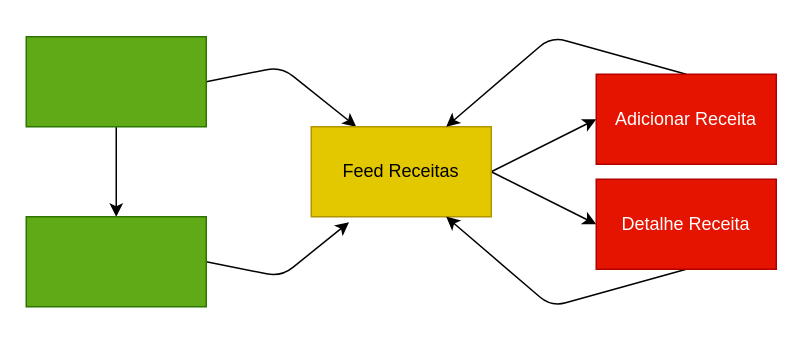
Image size: 803x345. Some labels were removed from this diagram. The shapes that lost their labels are listed below. From the top down, each one's centre as x and y in pixels, then its label:
At (115,81): "Login".
At (115,261): "Cadastro".
